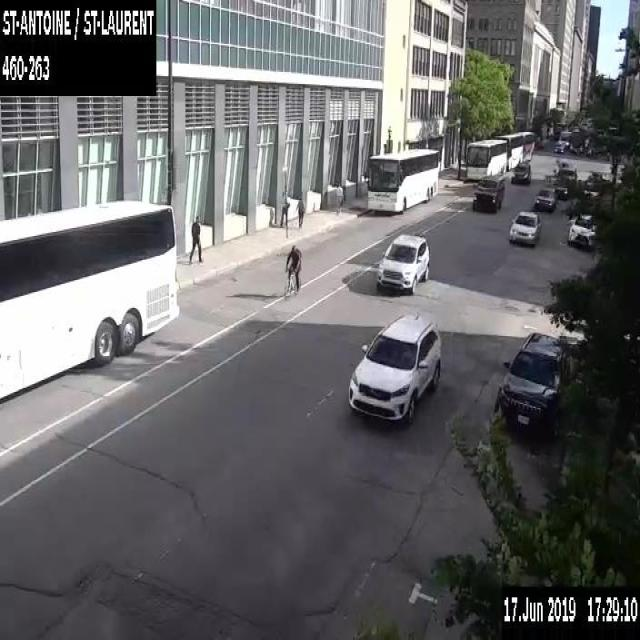bus: (0, 196, 181, 400), (366, 144, 439, 213), (464, 138, 506, 180), (493, 132, 522, 170), (512, 130, 535, 162)
cyclist: (283, 244, 301, 297)
pedestrian: (188, 215, 203, 265), (280, 189, 290, 226), (296, 196, 306, 227), (335, 184, 342, 213)
vehicle: (346, 308, 443, 425), (494, 329, 566, 432), (374, 231, 430, 296), (507, 209, 541, 244), (472, 174, 504, 211), (535, 187, 556, 209), (510, 162, 530, 184), (567, 229, 591, 247), (560, 165, 576, 182), (552, 182, 568, 199), (552, 140, 564, 153), (558, 134, 569, 146)
